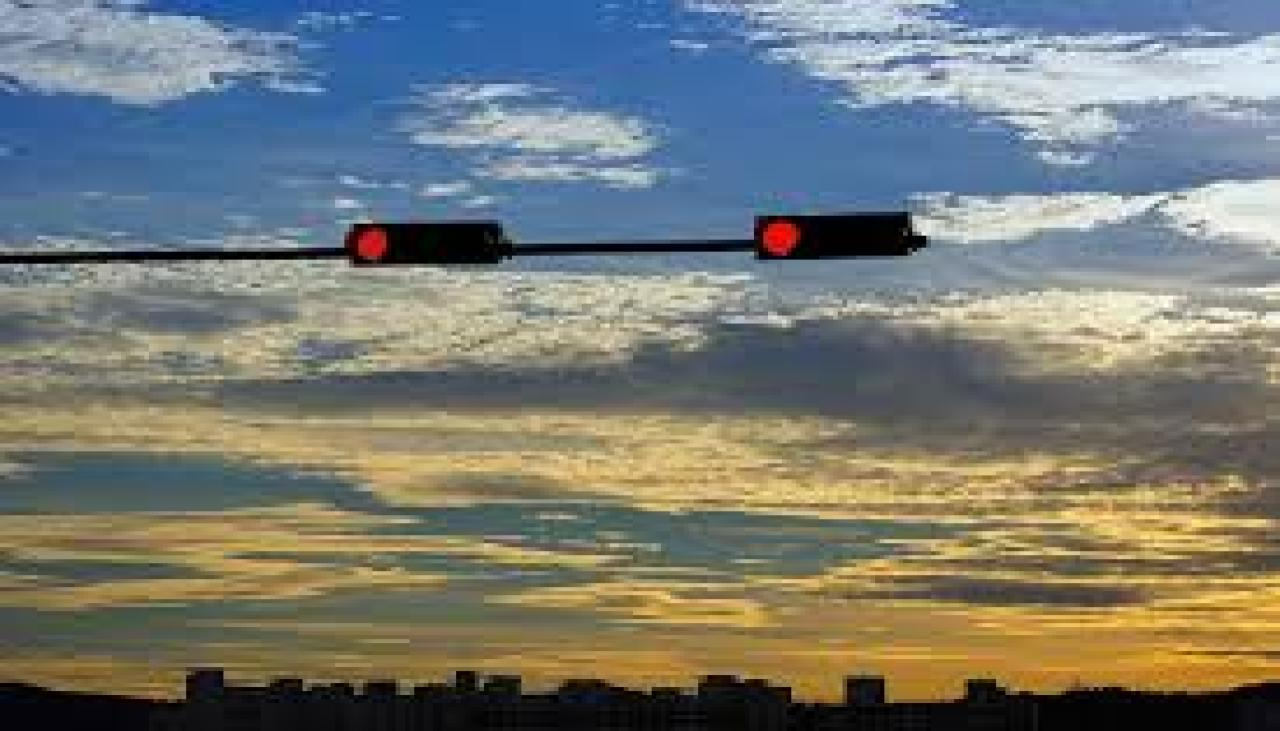Red Light: (347, 214, 402, 273), (751, 210, 808, 258)
